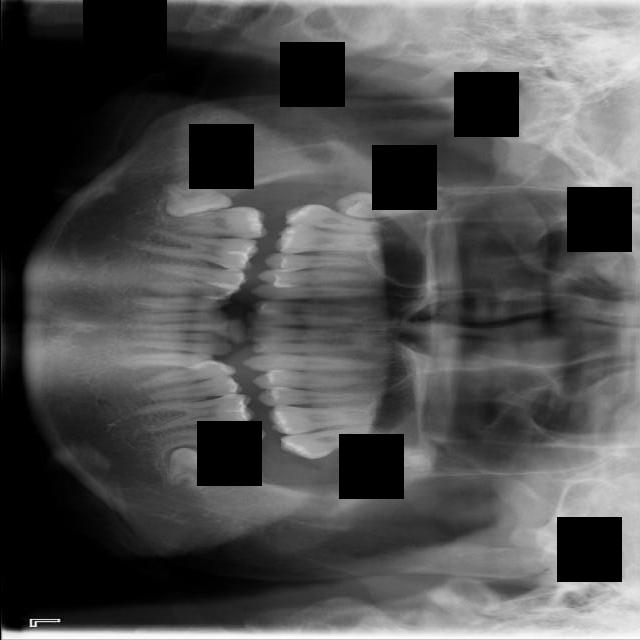3M ESPE Implant: (333, 190, 429, 223)
52: (206, 226, 262, 277), (276, 425, 333, 467), (204, 391, 257, 434), (272, 216, 317, 263), (220, 423, 267, 461), (218, 206, 267, 240), (264, 403, 311, 438), (256, 383, 303, 411), (285, 204, 332, 228), (252, 369, 300, 391), (192, 358, 236, 380), (205, 268, 248, 290), (201, 376, 243, 396), (198, 281, 240, 299)
73: (17, 620, 23, 628)
BioHorizons Implant: (278, 421, 386, 464)
BioLife Implant: (339, 440, 431, 472)
Biomet 3i Implant: (163, 443, 239, 499)
Blue Sky Bio Implant: (162, 425, 267, 460)
Caries: (283, 201, 399, 238)
Implant: (160, 206, 267, 239)
Keystone Dental Implant: (162, 171, 234, 220)
